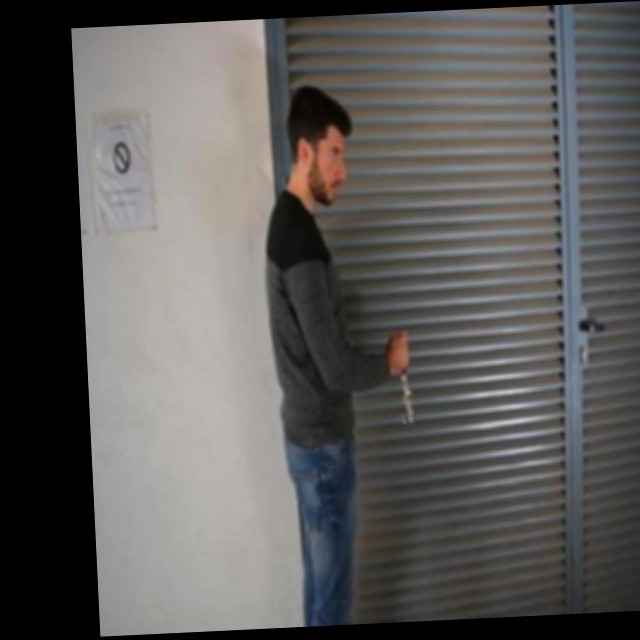Sharp-Object: (401, 371, 413, 424)
